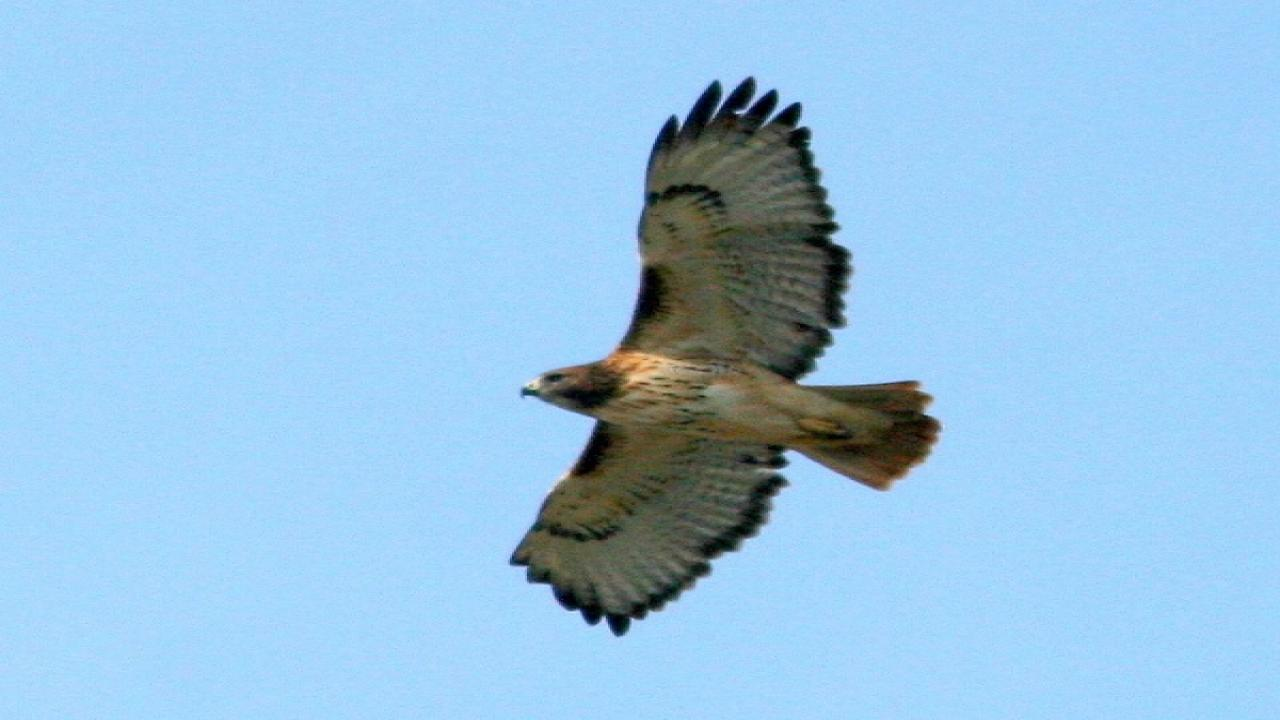Bird: (502, 62, 954, 644)
